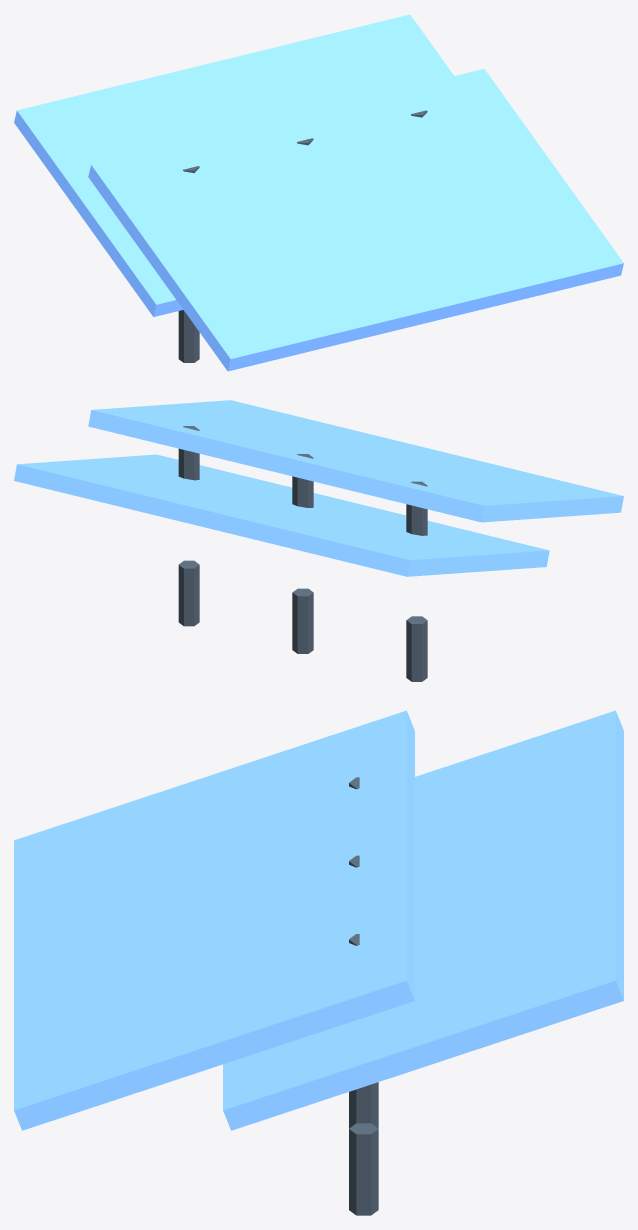
File: bldg_solar.glb
The picture shows the model from 3 angles, top to bottom: view 1: azimuth 30°, elevation 25°; view 2: azimuth 150°, elevation 25°; view 3: azimuth 270°, elevation 25°; orthographic projection. The views are drawn at different scales.
Visible parts, largest first — view 1: Panel.002, Panel, Panel.004, Panel.001, Panel.003, Panel.005, Stilt; view 2: Panel.001, Panel, Panel.004, Panel.003, Panel.005, Panel.002, Stilt.004, Stilt.002, Stilt, Stilt.001, Stilt.005, Stilt.003; view 3: Panel.004, Panel, Panel.005, Panel.001, Panel.002, Panel.003, Stilt.004, Stilt.002.
Boxes of the visible parts, x1,y1,x2,y2 form: Panel.002: (205, 98, 509, 331); Panel: (88, 127, 395, 371); Panel.004: (319, 69, 623, 315); Panel.001: (14, 70, 225, 316); Panel.003: (131, 42, 340, 143); Panel.005: (247, 14, 453, 115); Stilt: (178, 310, 199, 362); Panel.001: (242, 510, 549, 576); Panel: (316, 455, 623, 522); Panel.004: (88, 400, 395, 465); Panel.003: (128, 482, 383, 548); Panel.005: (14, 454, 269, 516); Panel.002: (202, 437, 457, 494); Stilt.004: (178, 560, 199, 626); Stilt.002: (292, 588, 313, 653); Stilt: (406, 616, 427, 681); Stilt.001: (406, 481, 427, 535); Stilt.005: (178, 426, 199, 480); Stilt.003: (292, 454, 313, 507); Panel.004: (14, 867, 414, 1130); Panel: (14, 710, 414, 953); Panel.005: (223, 867, 623, 1130); Panel.001: (415, 710, 623, 890); Panel.002: (14, 790, 414, 996); Panel.003: (415, 789, 623, 967); Stilt.004: (349, 1123, 378, 1215); Stilt.002: (349, 1082, 378, 1128).
Bounding box in the file's own units: 2.14 × 1.06 × 2.04.
